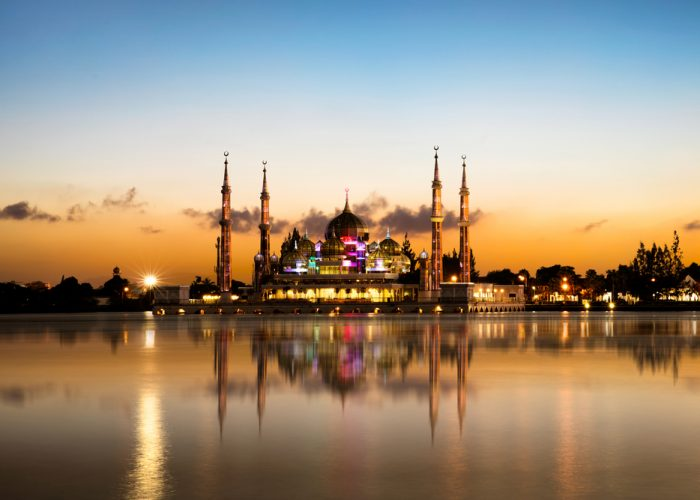Mosque: (209, 148, 479, 303)
